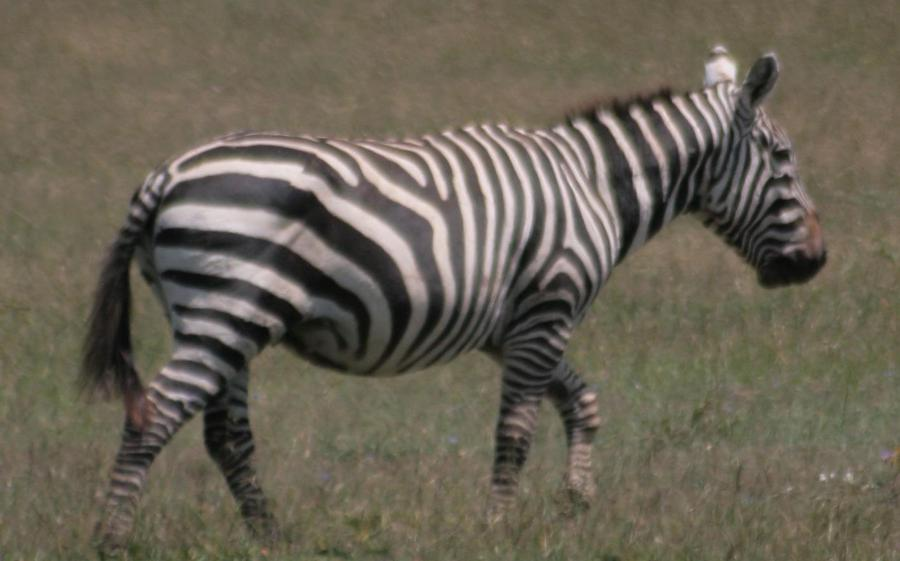zebra_plains: (125, 75, 655, 424)
